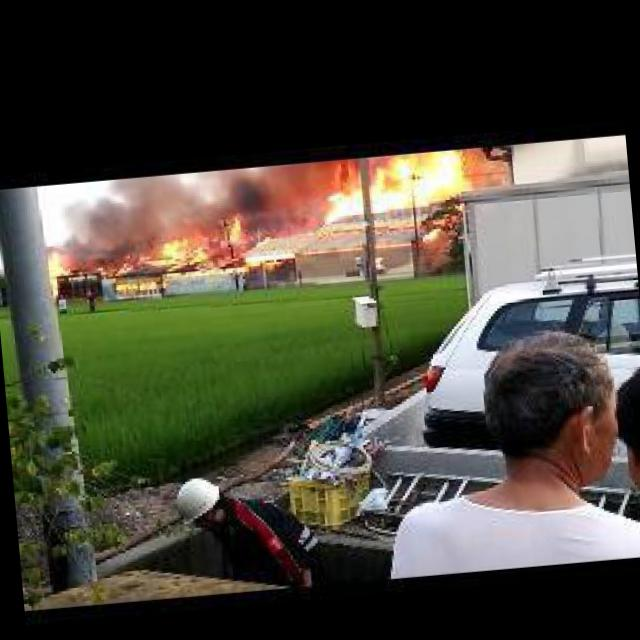fire: (319, 148, 474, 222), (141, 218, 245, 266), (165, 256, 284, 278), (45, 252, 72, 296), (116, 282, 158, 292)
smoke: (62, 160, 319, 250)
